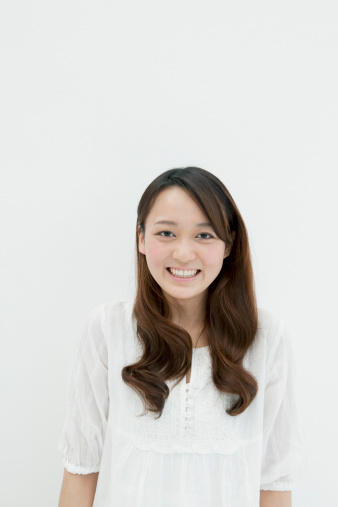em pe: (56, 151, 304, 507)
